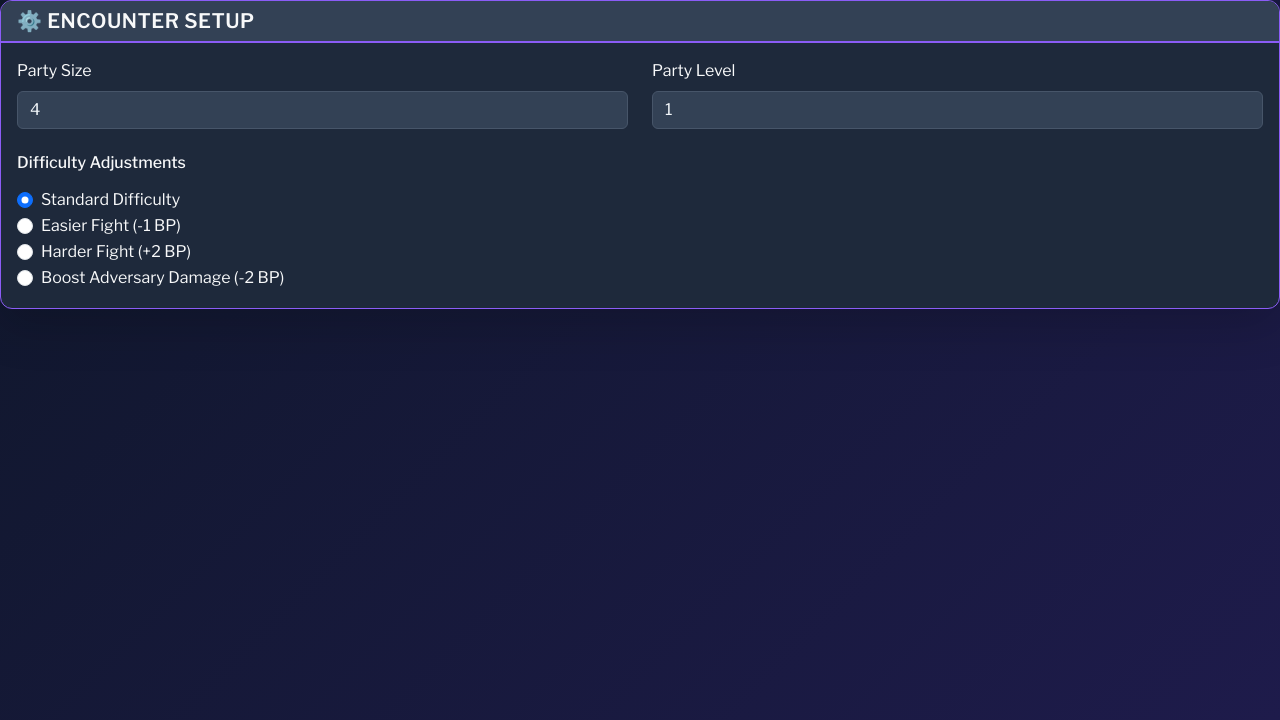
Test: Controls number inputs › clamps to the allowed range and restores a value on blur
Step 1. Replace the text in the number field labelled "Party Size" with "99" → (322, 110), box [17, 91, 628, 129]
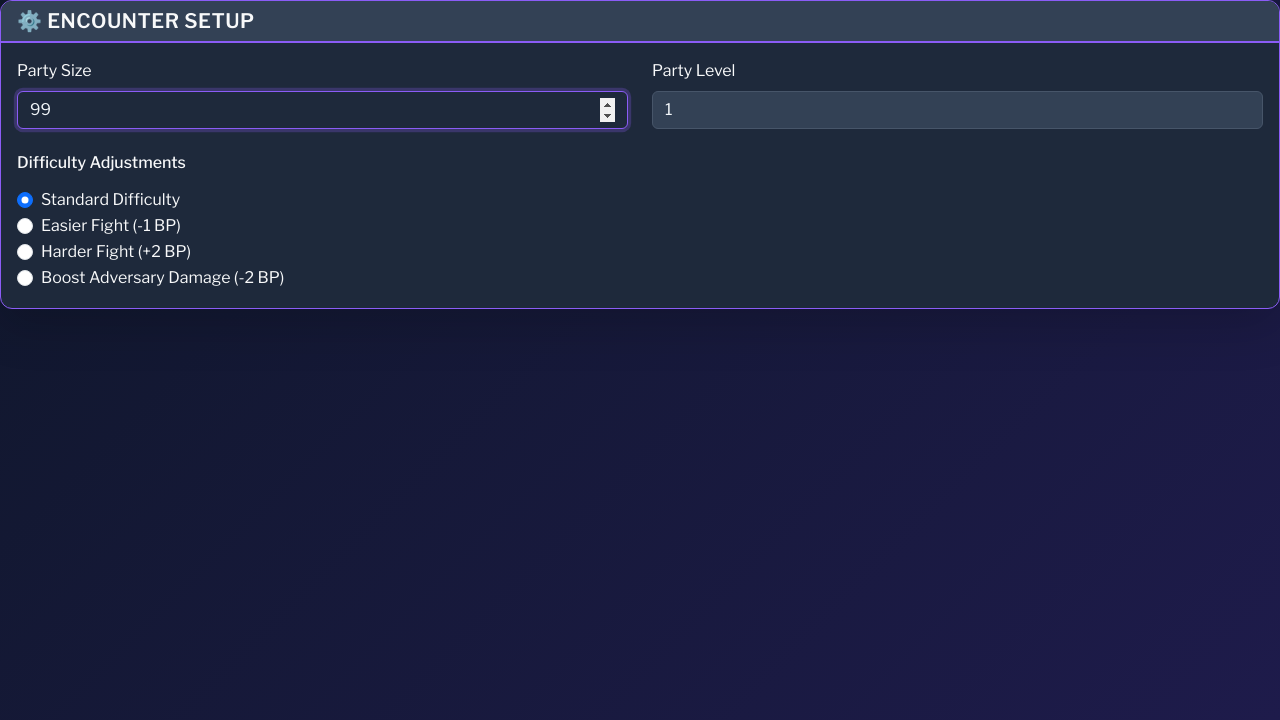
Step 2. Press Tab
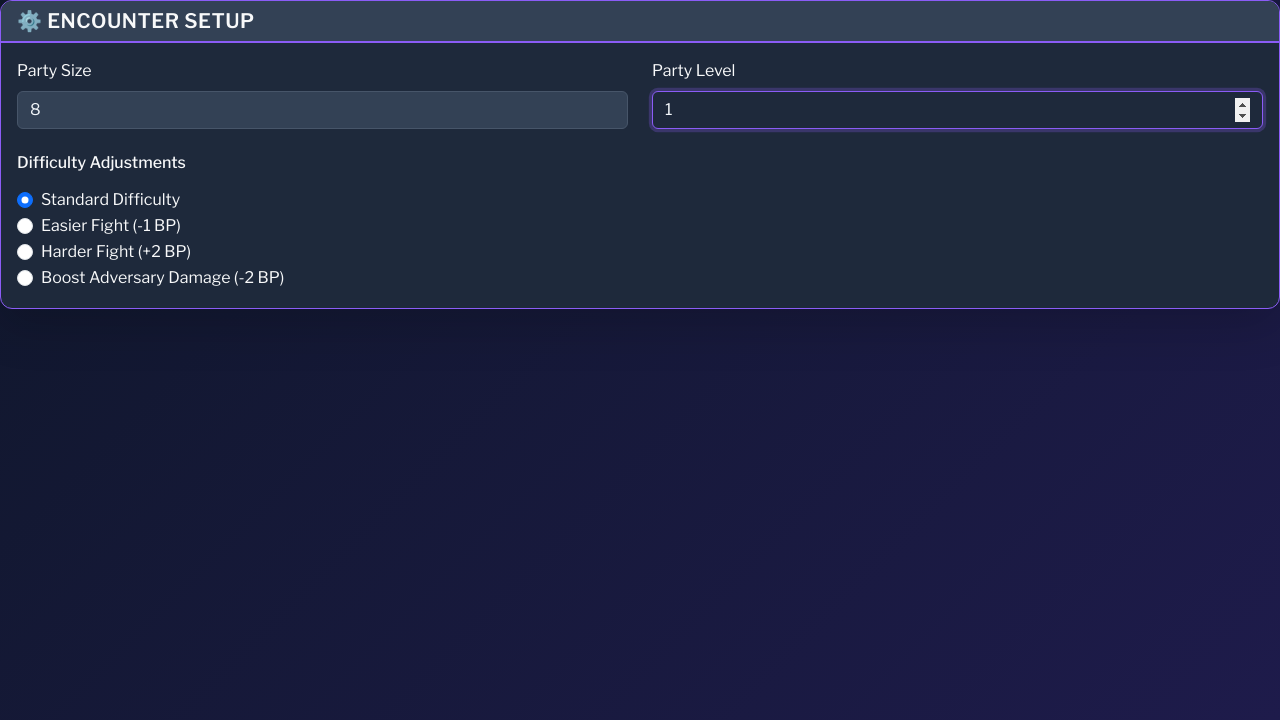
expect the number field labelled "Party Size" holds "8": met
Step 3. Clear the number field labelled "Party Size" → (322, 110), box [17, 91, 628, 129]
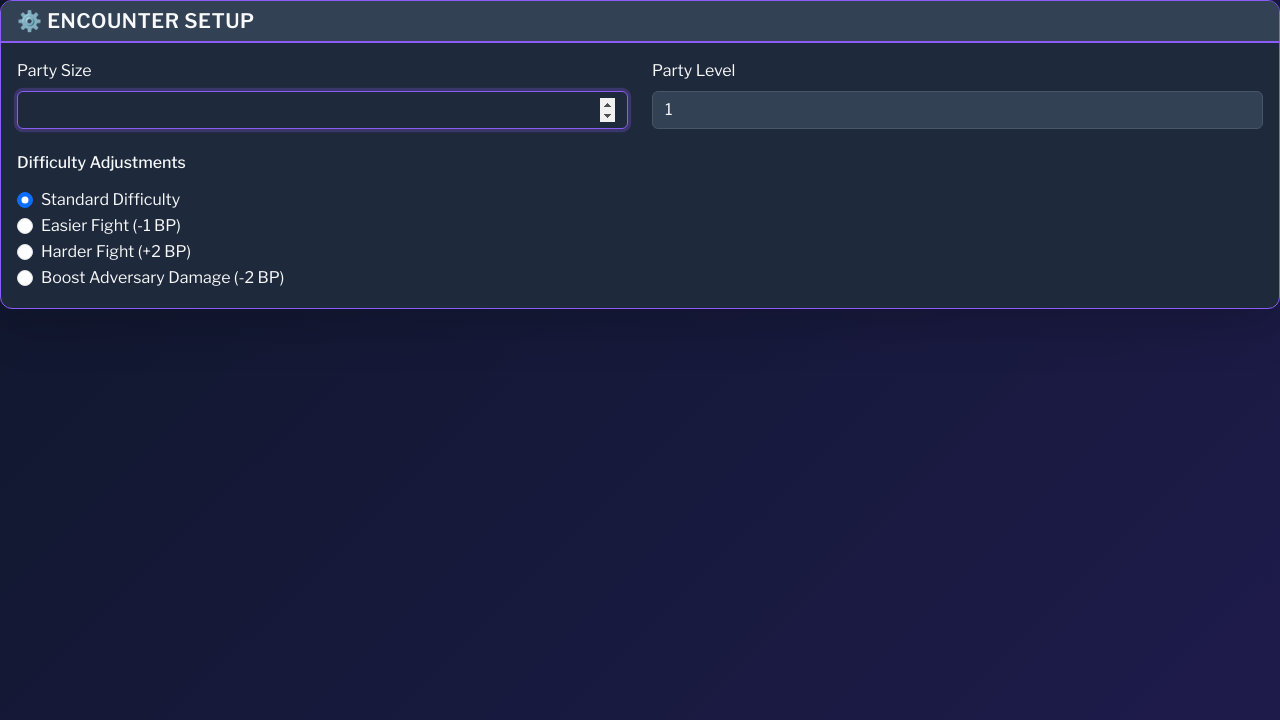
Step 4. Press Tab
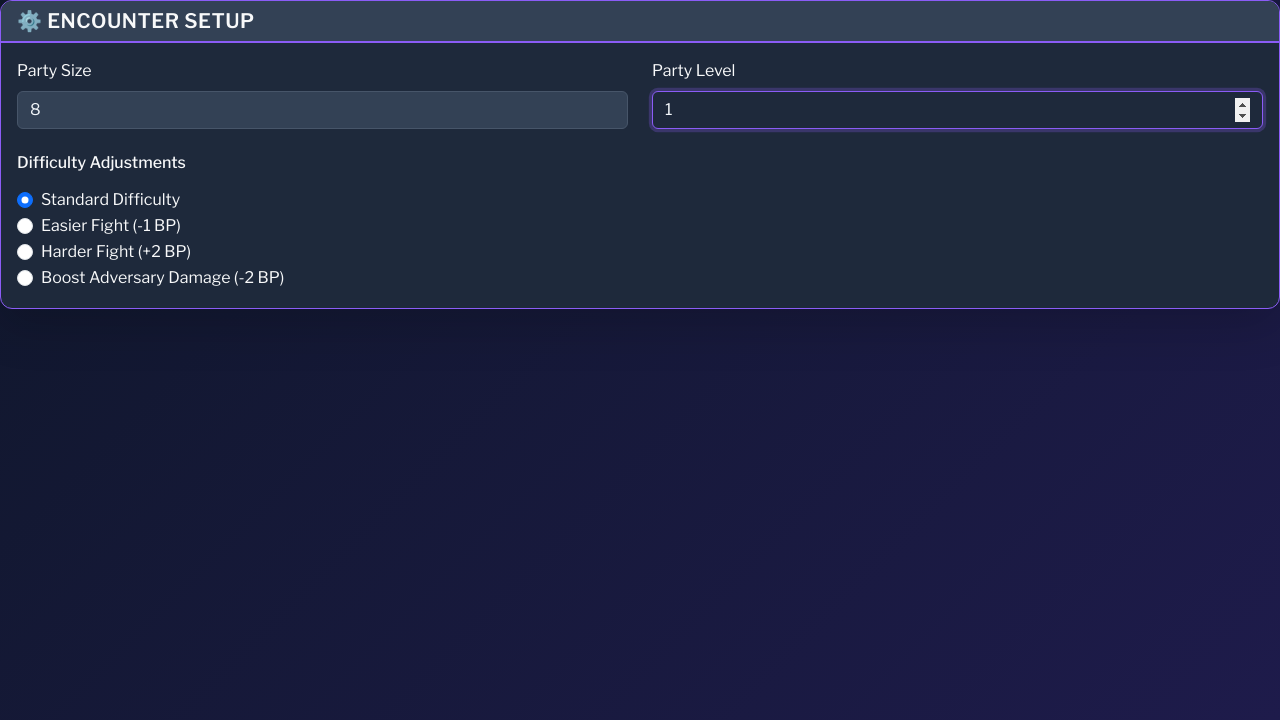
expect the number field labelled "Party Size" holds "8": met, box [17, 91, 628, 129]
